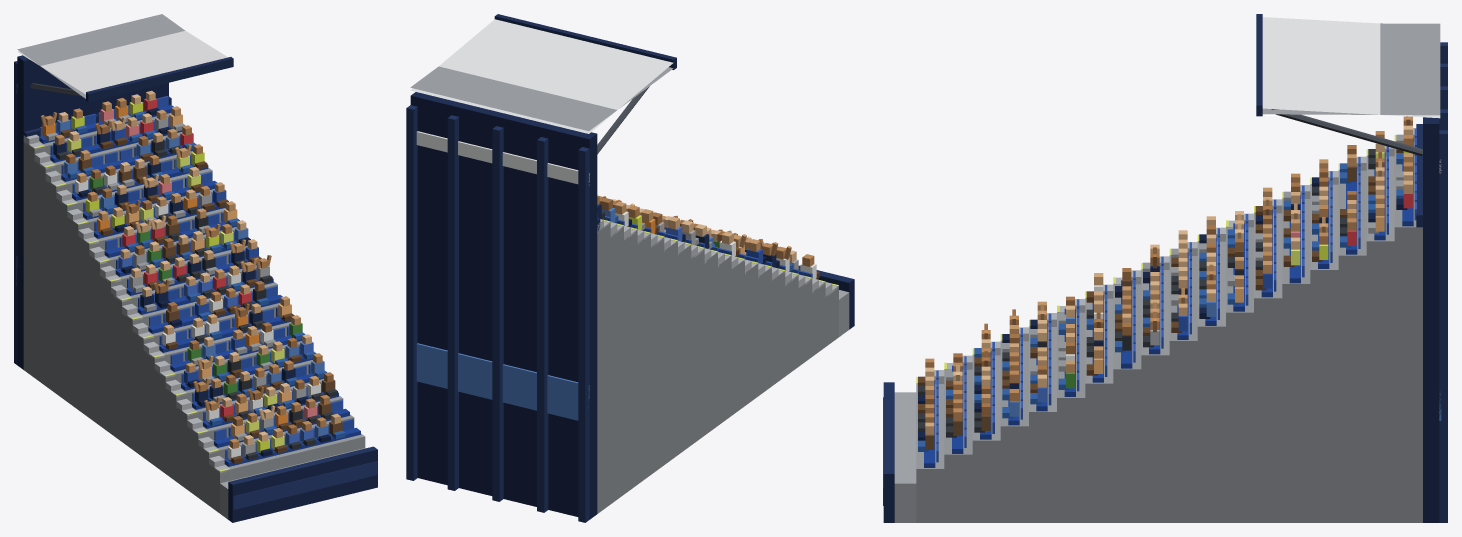
File: Stand_w20_2.glb
3 renders of one model, left to right at view 1: azimuth 30°, elevation 25°; view 2: azimuth 150°, elevation 25°; view 3: azimuth 270°, elevation 25°, orthographic. The views are drawn at different scales.
Visible parts, largest first — view 1: Stand_w20_2; view 2: Stand_w20_2; view 3: Stand_w20_2.
Part boxes in pixels (left/top/right/bottom): Stand_w20_2: left=14, top=14, right=377, bottom=522; Stand_w20_2: left=406, top=14, right=854, bottom=522; Stand_w20_2: left=883, top=14, right=1447, bottom=522.
Bounding box in the file's own units: 20 × 42.55 × 52.16.
Materials: 2 (1 with a texture image).
